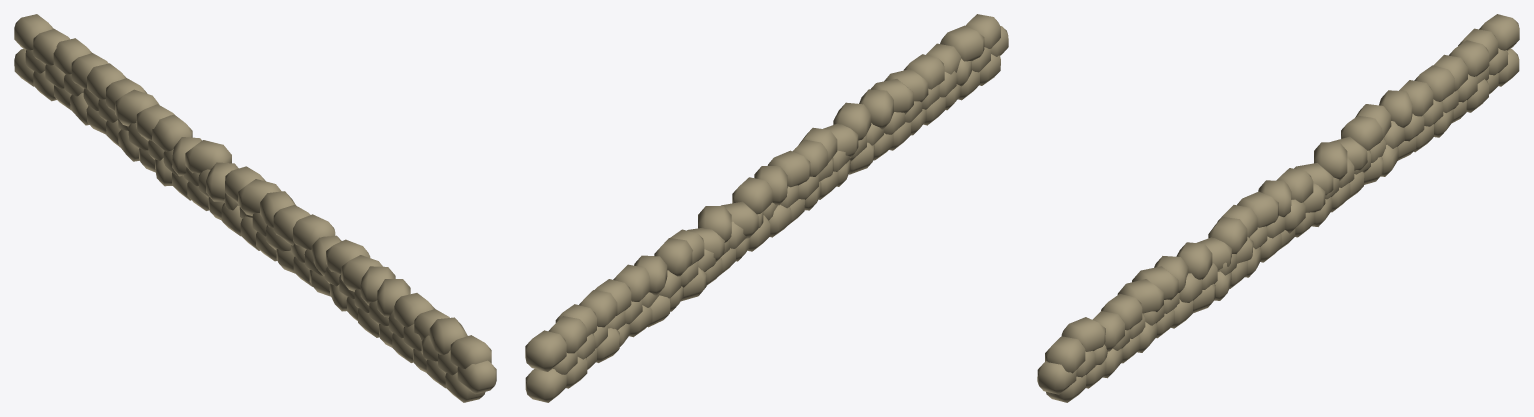
Rendered from SackPileSeperatedPartsForOneDirection.fbx.
3 views of the same model, side by side, from view 1: azimuth 30°, elevation 25°; view 2: azimuth 150°, elevation 25°; view 3: azimuth 330°, elevation 25° (orthographic).
Parts seen in each view (by area): view 1: SackTrench_Small.046, SackTrench_Small.004, SackTrench_Small.006, SackTrench_Small.028, SackTrench_Small.052, SackTrench_Small.005, SackTrench_Small.058, SackTrench_Small.039, SackTrench_Small.010, SackTrench_Small.076, SackTrench_Small.022, SackTrench_Small.015 (+18 smaller); view 2: SackTrench_Small.076, SackTrench_Small.073, SackTrench_Small.005, SackTrench_Small.040, SackTrench_Small.057, SackTrench_Small.021, SackTrench_Small.034, SackTrench_Small.022, SackTrench_Small.075, SackTrench_Small.046, SackTrench_Small.069, SackTrench_Small.063 (+21 smaller); view 3: SackTrench_Small.004, SackTrench_Small.005, SackTrench_Small.046, SackTrench_Small.052, SackTrench_Small.006, SackTrench_Small.015, SackTrench_Small.028, SackTrench_Small.022, SackTrench_Small.076, SackTrench_Small.070, SackTrench_Small.034, SackTrench_Small.064 (+21 smaller).
Boxes of the visible parts, x1,y1,x2,y2 form: SackTrench_Small.046: (185, 140, 231, 173); SackTrench_Small.004: (450, 335, 491, 368); SackTrench_Small.006: (457, 360, 496, 394); SackTrench_Small.028: (293, 214, 335, 249); SackTrench_Small.052: (152, 114, 192, 151); SackTrench_Small.005: (429, 317, 467, 354); SackTrench_Small.058: (115, 89, 159, 126); SackTrench_Small.039: (238, 179, 281, 215); SackTrench_Small.010: (394, 293, 434, 327); SackTrench_Small.076: (14, 14, 53, 50); SackTrench_Small.022: (326, 239, 370, 274); SackTrench_Small.015: (377, 279, 410, 316); SackTrench_Small.076: (525, 330, 566, 371); SackTrench_Small.073: (525, 368, 566, 402); SackTrench_Small.005: (940, 25, 984, 61); SackTrench_Small.040: (732, 177, 772, 214); SackTrench_Small.057: (654, 238, 692, 276); SackTrench_Small.021: (859, 89, 893, 129); SackTrench_Small.034: (767, 150, 810, 187); SackTrench_Small.022: (833, 102, 871, 140); SackTrench_Small.075: (548, 316, 586, 353); SackTrench_Small.046: (698, 206, 731, 242); SackTrench_Small.069: (579, 290, 617, 327); SackTrench_Small.063: (613, 264, 650, 301); SackTrench_Small.004: (1045, 336, 1085, 373); SackTrench_Small.005: (1061, 317, 1105, 351); SackTrench_Small.046: (1314, 142, 1347, 181); SackTrench_Small.052: (1341, 115, 1381, 150); SackTrench_Small.006: (1037, 361, 1076, 394); SackTrench_Small.015: (1117, 279, 1163, 313); SackTrench_Small.028: (1208, 217, 1247, 253); SackTrench_Small.022: (1176, 242, 1212, 279); SackTrench_Small.076: (1479, 14, 1519, 50); SackTrench_Small.070: (1449, 40, 1489, 76); SackTrench_Small.034: (1237, 191, 1278, 227); SackTrench_Small.064: (1414, 65, 1454, 101).
Size of the model in its own units: 2.79 by 4.03 by 53.9.
